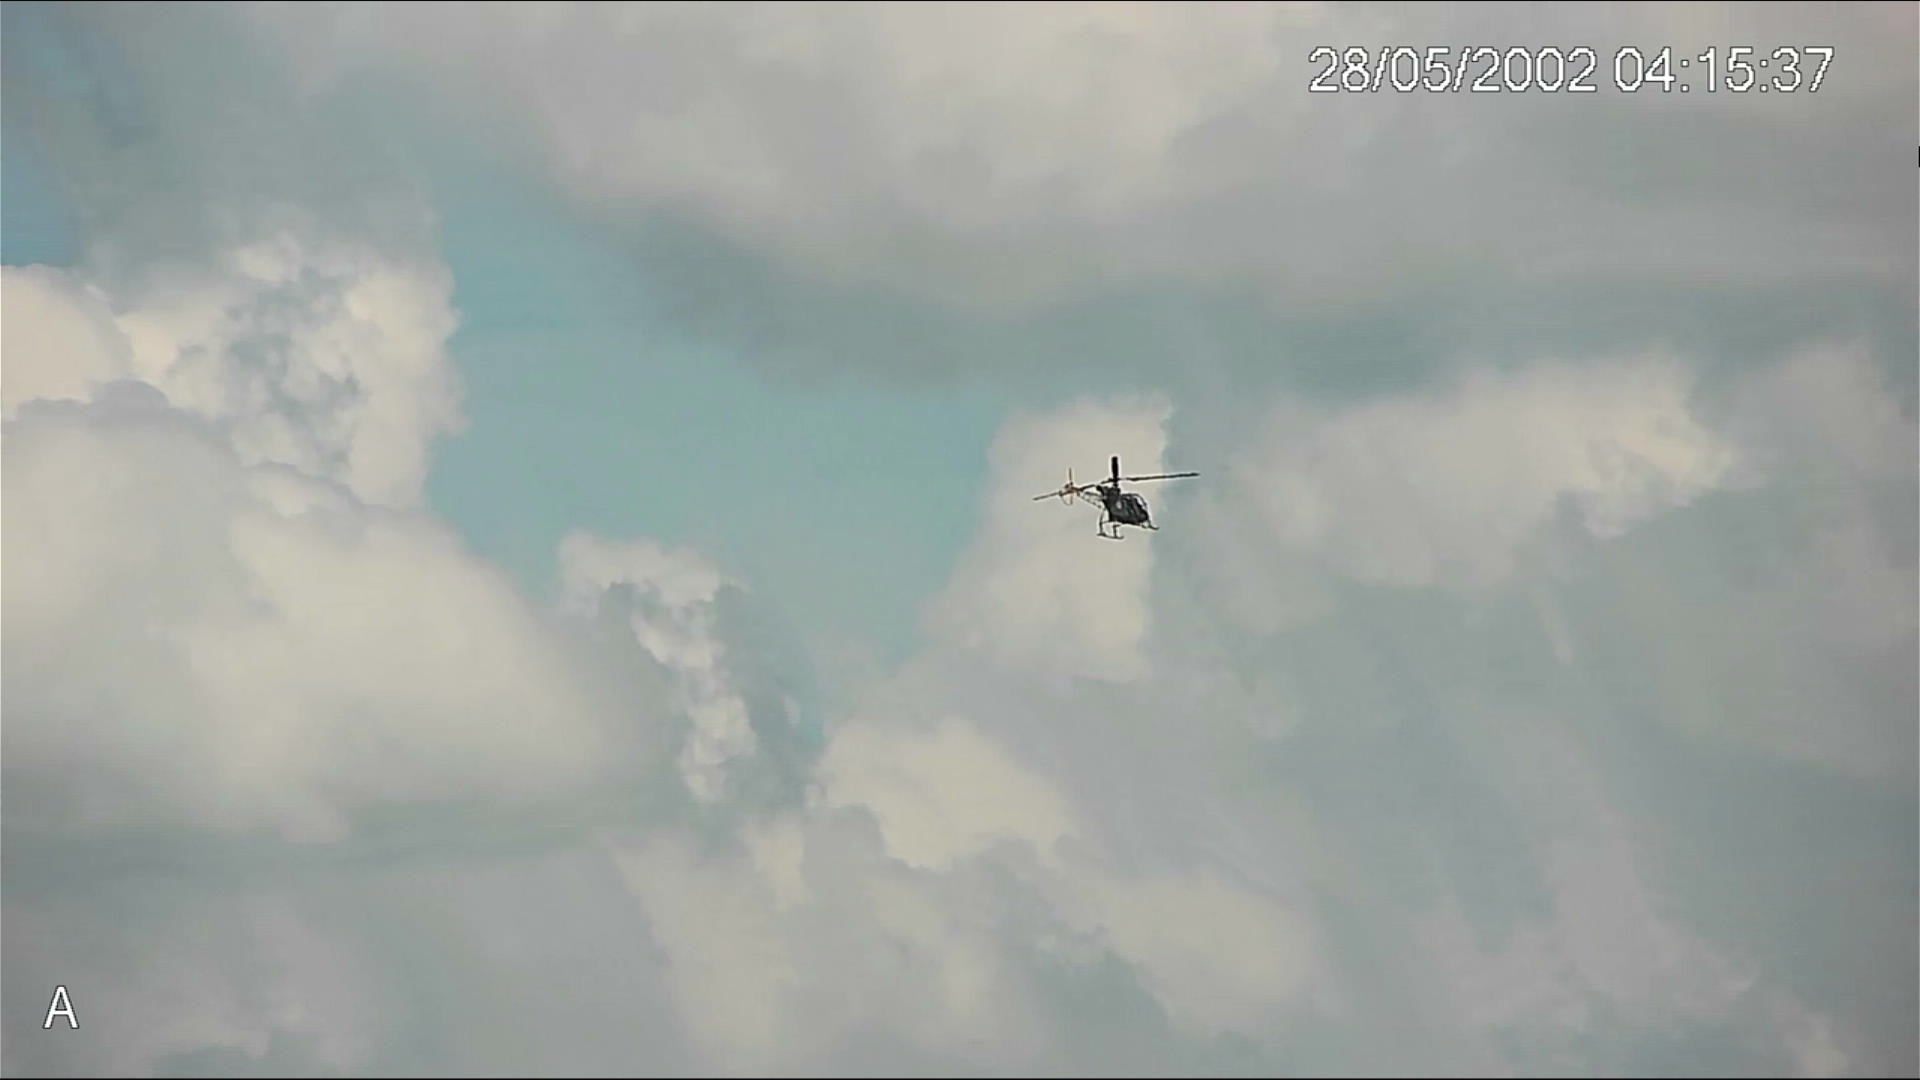SU_30: (1033, 458, 1201, 542)
